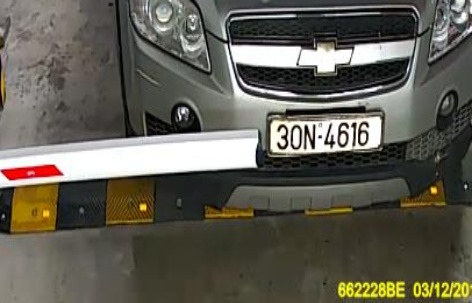plate: (267, 106, 384, 154)
